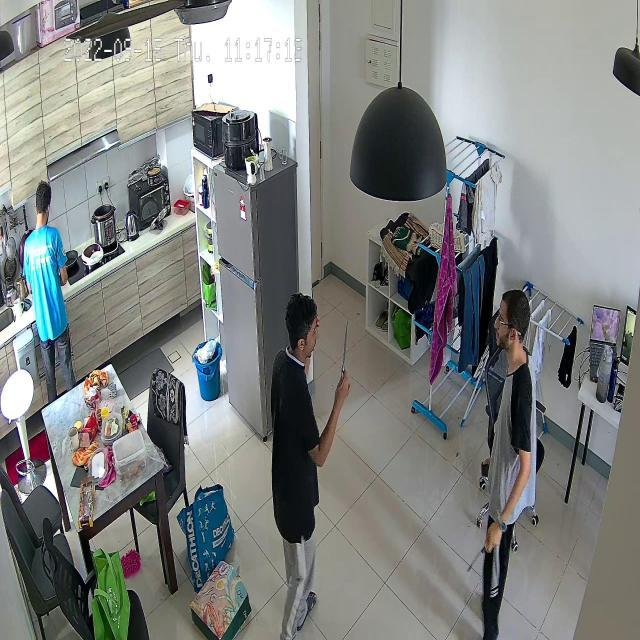Knife: (332, 317, 361, 395)
